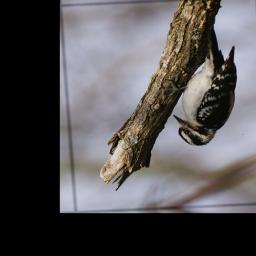Woodpecker: (164, 24, 249, 156)
